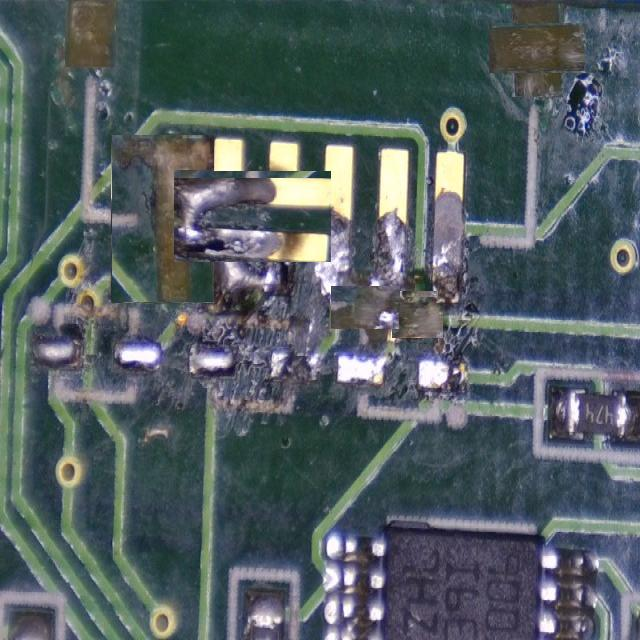Short_circuit: (174, 172, 330, 262)
